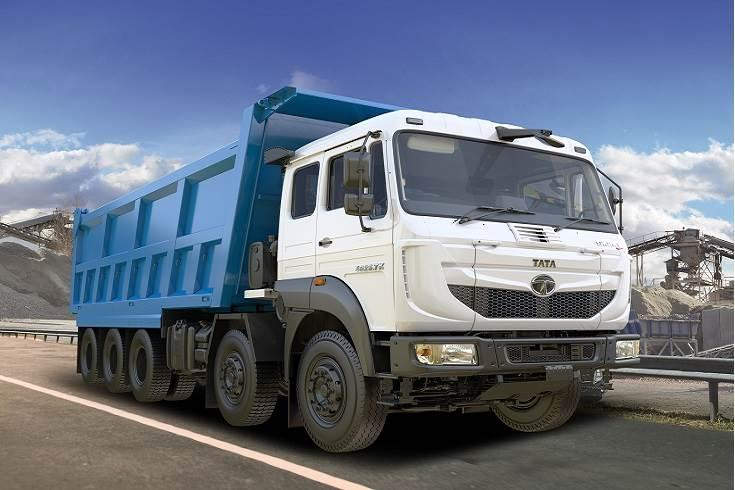truck: (69, 86, 628, 453)
